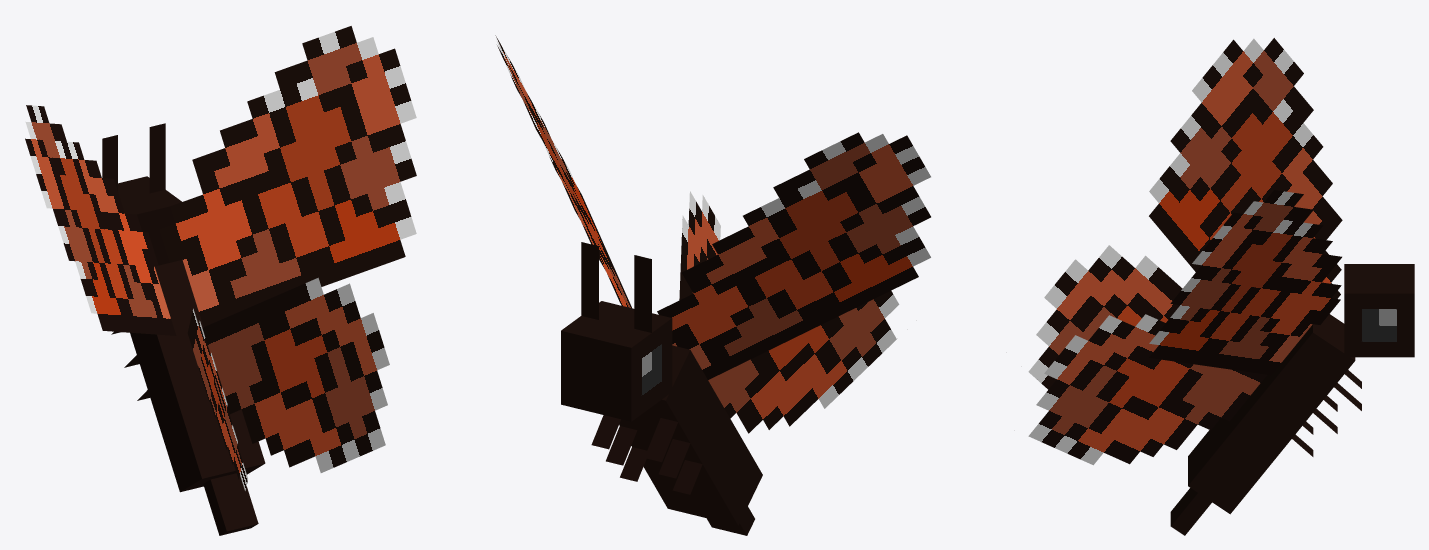
The model's file is voxel_butterfly.glb.
3 renders of one model, left to right at view 1: azimuth 30°, elevation 25°; view 2: azimuth 150°, elevation 25°; view 3: azimuth 270°, elevation 25°, orthographic. The views are drawn at different scales.
Parts seen in each view (by area): view 1: rightWing_14, rightWingTip_15, leftWing_18, body_6, head_0, leftWingTip_19, body_7, rightEar_1, leftEar_3; view 2: leftWing_18, leftWingTip_19, body_6, head_0, rightWing_14, rightWingTip_15, leftEar_3, rightEar_1, cube_9, cube_11, cube_10, cube_13 (+2 smaller); view 3: leftWing_18, rightWing_14, rightWingTip_15, body_6, leftWingTip_19, head_0, body_7.
Boxes of the visible parts, bbox=[...] form: rightWing_14: bbox=[159, 26, 416, 326]; rightWingTip_15: bbox=[202, 277, 389, 472]; leftWing_18: bbox=[25, 105, 176, 335]; body_6: bbox=[130, 260, 265, 492]; head_0: bbox=[118, 176, 181, 265]; leftWingTip_19: bbox=[187, 308, 247, 490]; body_7: bbox=[203, 473, 258, 535]; rightEar_1: bbox=[149, 123, 165, 193]; leftEar_3: bbox=[102, 135, 117, 190]; leftWing_18: bbox=[657, 132, 930, 379]; leftWingTip_19: bbox=[708, 291, 899, 433]; body_6: bbox=[619, 345, 762, 525]; head_0: bbox=[561, 301, 672, 421]; rightWing_14: bbox=[495, 35, 631, 308]; rightWingTip_15: bbox=[679, 191, 720, 300]; leftEar_3: bbox=[634, 255, 651, 332]; rightEar_1: bbox=[581, 242, 598, 319]; cube_9: bbox=[644, 418, 677, 462]; cube_11: bbox=[606, 426, 637, 465]; cube_10: bbox=[658, 439, 690, 478]; cube_13: bbox=[672, 460, 702, 494]; leftWing_18: bbox=[1149, 38, 1342, 298]; rightWing_14: bbox=[1149, 190, 1341, 375]; rightWingTip_15: bbox=[1028, 314, 1266, 465]; body_6: bbox=[1188, 314, 1355, 514]; leftWingTip_19: bbox=[1028, 245, 1182, 389]; head_0: bbox=[1344, 264, 1414, 357]; body_7: bbox=[1170, 488, 1211, 535].
Size of the model in its own units: 1.46 by 1.68 by 1.47.
Materials: 1 (1 with a texture image).
